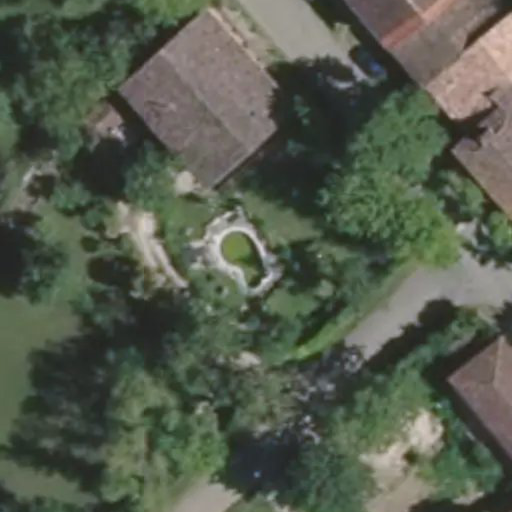pool: (218, 227, 294, 254)
